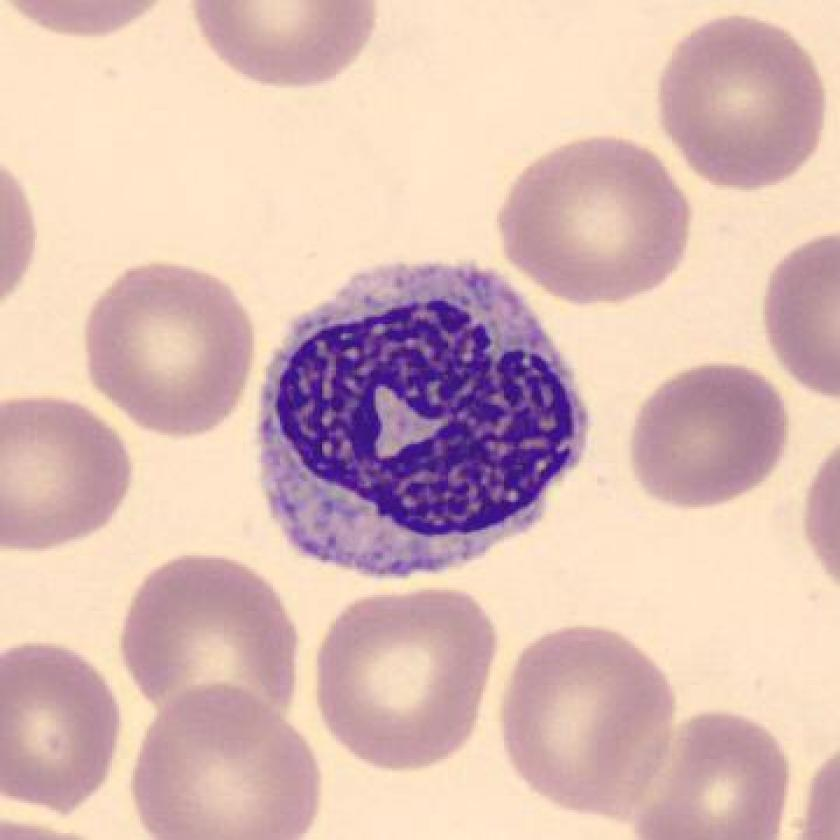monocyte: (241, 235, 603, 591)
